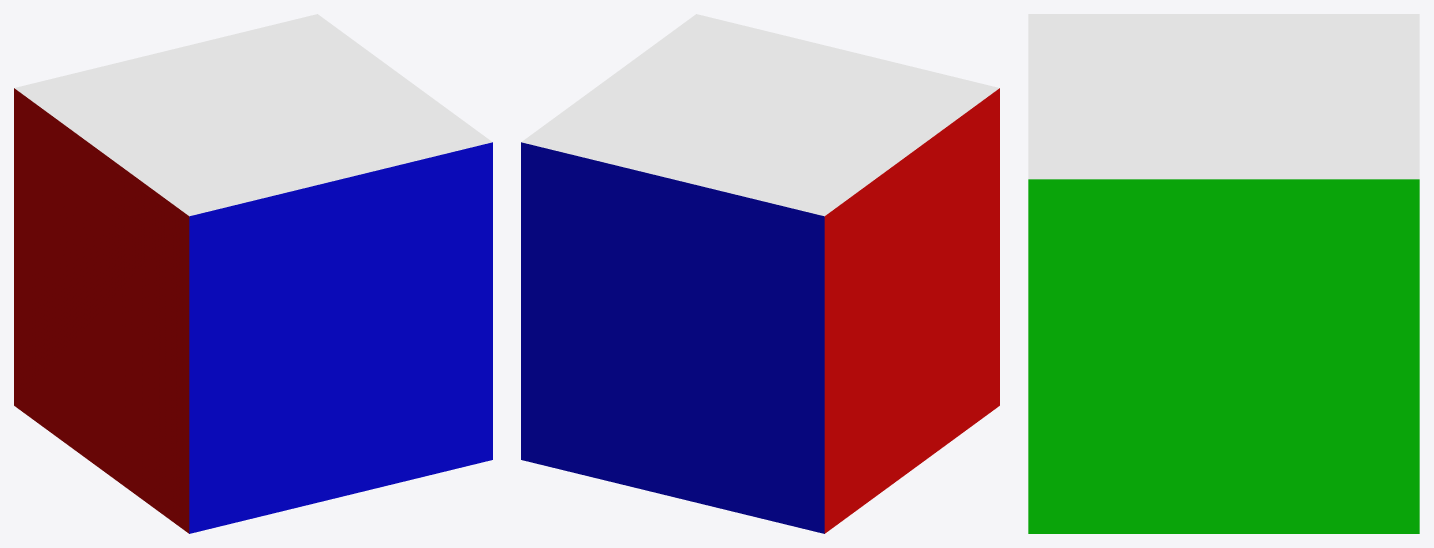
3 views of the same model, side by side, from view 1: azimuth 30°, elevation 25°; view 2: azimuth 150°, elevation 25°; view 3: azimuth 270°, elevation 25° (orthographic). The views are drawn at different scales.
Parts seen in each view (by area): view 1: Quad; view 2: Quad; view 3: Quad.
Boxes of the visible parts, x1,y1,x2,y2 form: Quad: (14, 14, 492, 533); Quad: (521, 14, 999, 533); Quad: (1028, 14, 1419, 533).
Bounding box in the file's own units: 80 × 80.02 × 80.
